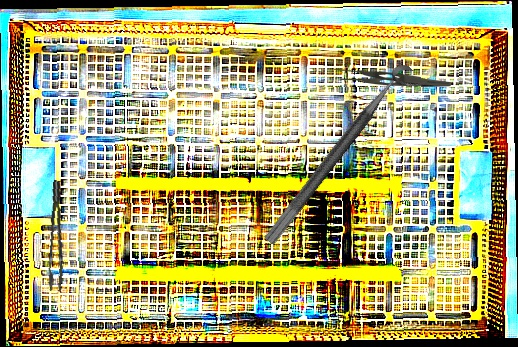Dressing Forceps: (333, 66, 452, 88)
Fixation Ring: (262, 60, 428, 258)
Tissue Forceps: (38, 180, 76, 292)
